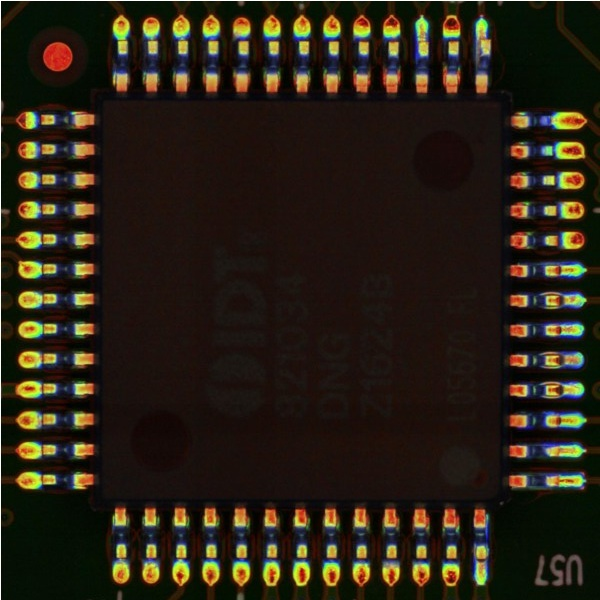Bad_podu: (551, 415, 572, 425), (552, 475, 570, 486), (420, 28, 427, 51), (551, 324, 568, 333), (477, 553, 487, 567), (478, 29, 486, 43), (556, 265, 566, 274)
Bad_qiaojiao: (538, 290, 561, 295), (541, 393, 561, 398), (541, 304, 561, 309), (538, 380, 560, 384), (539, 364, 561, 368), (538, 351, 560, 354)
